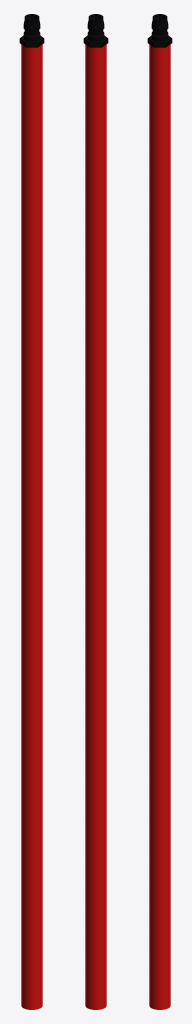
The model's file is staff.obj.
3 renders of one model, left to right at view 1: azimuth 30°, elevation 25°; view 2: azimuth 210°, elevation 25°; view 3: azimuth 330°, elevation 25°, orthographic.
Parts seen in each view (by area): view 1: Shaft, Body1; view 2: Shaft, Body1; view 3: Shaft, Body1.
Part boxes in pixels (bbox=[...]): Shaft: bbox=[21, 44, 42, 1009]; Body1: bbox=[19, 14, 44, 47]; Shaft: bbox=[85, 44, 106, 1009]; Body1: bbox=[83, 14, 108, 47]; Shaft: bbox=[149, 44, 170, 1009]; Body1: bbox=[147, 14, 172, 47].
Size of the model in its own units: 0.02 by 1.03 by 0.0231.
